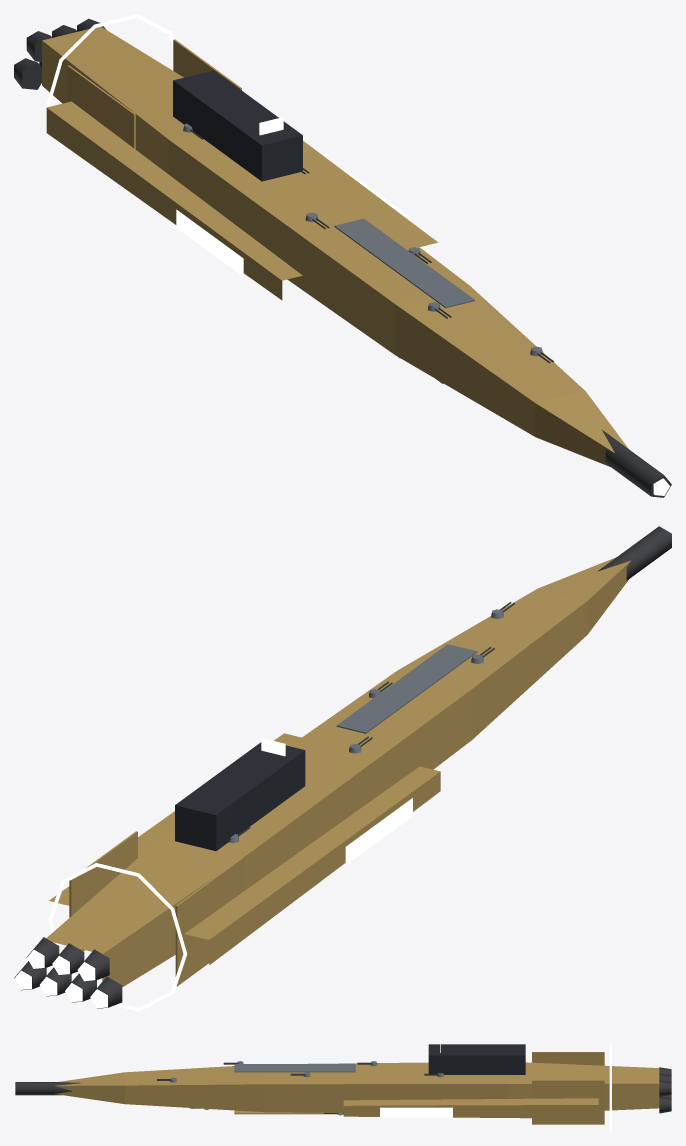
Rendered from space_ship_battleship_mk7_lod1.glb.
3 views of the same model, one above another, from view 1: azimuth 30°, elevation 25°; view 2: azimuth 150°, elevation 25°; view 3: azimuth 270°, elevation 25° (orthographic). The views are drawn at different scales.
Visible parts, largest first — view 1: body, main_gun, hangar_r, engine_0; view 2: body, main_gun, hangar_r, engine_0, engine_1, engine_5; view 3: body, hangar_l, main_gun, engine_6, engine_5.
Part boxes in pixels (x1,y1,x2,y2): body: [42, 14, 628, 466]; main_gun: [601, 429, 671, 497]; hangar_r: [176, 209, 243, 276]; engine_0: [14, 58, 41, 89]; body: [46, 557, 631, 1011]; main_gun: [597, 526, 671, 580]; hangar_r: [345, 798, 412, 864]; engine_0: [90, 976, 122, 1008]; engine_1: [77, 949, 109, 981]; engine_5: [26, 937, 59, 969]; body: [55, 1040, 659, 1131]; hangar_l: [380, 1107, 452, 1117]; main_gun: [14, 1082, 81, 1095]; engine_6: [659, 1097, 671, 1113]; engine_5: [659, 1081, 671, 1096].
Bounding box in the file's own units: 28.5 × 24.55 × 177.
